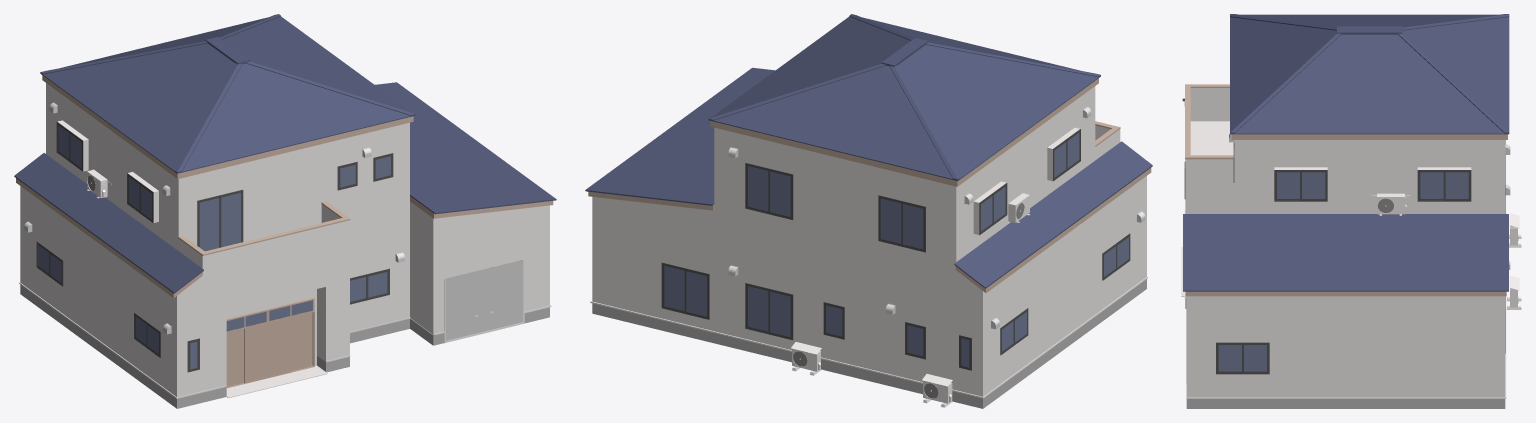
File: MobHouse21.fbx
3 renders of one model, left to right at view 1: azimuth 30°, elevation 25°; view 2: azimuth 150°, elevation 25°; view 3: azimuth 270°, elevation 25°, orthographic. The views are drawn at different scales.
Parts seen in each view (by area): view 1: Flat_half_house01.021; view 2: Flat_half_house01.021; view 3: Flat_half_house01.021.
Boxes of the visible parts, x1,y1,x2,y2 form: Flat_half_house01.021: (14, 14, 556, 408); Flat_half_house01.021: (585, 14, 1152, 408); Flat_half_house01.021: (1181, 14, 1521, 408).
Bounding box in the file's own units: 10.94 × 7.06 × 8.25.
